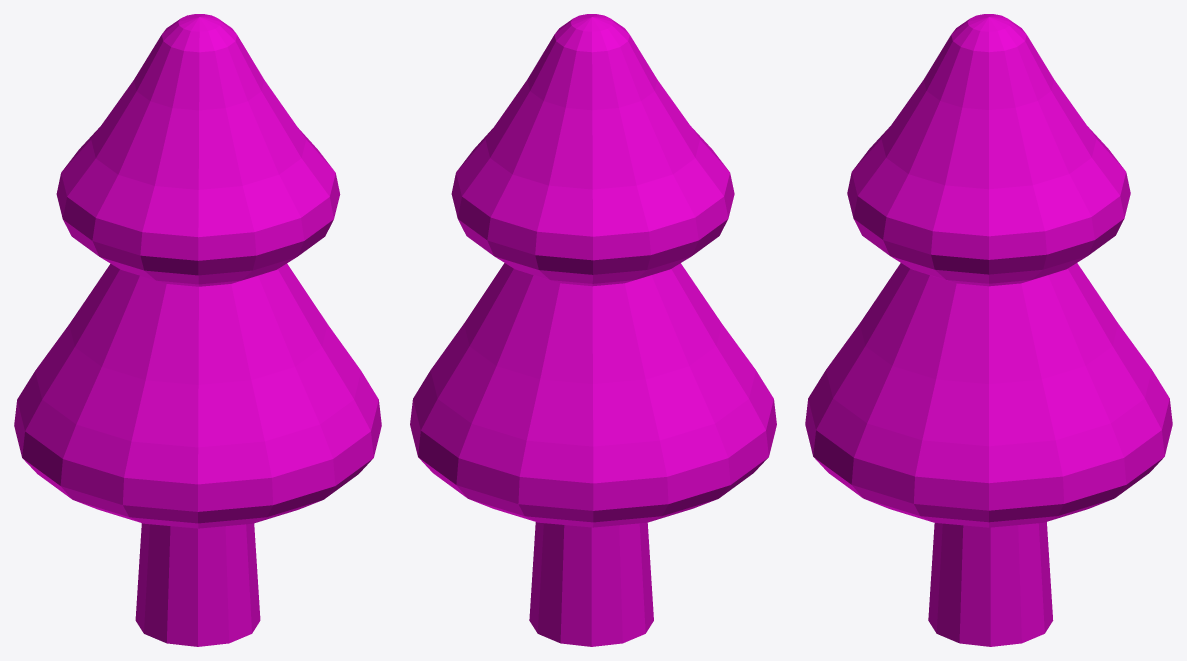
The model's file is Pine 2.fbx.
3 views of the same model, side by side, from view 1: azimuth 30°, elevation 25°; view 2: azimuth 150°, elevation 25°; view 3: azimuth 270°, elevation 25° (orthographic).
Parts seen in each view (by area): view 1: Bush, Trunk; view 2: Bush, Trunk; view 3: Bush, Trunk.
Part boxes in pixels (x1,y1,x2,y2): Bush: [14, 14, 381, 528]; Trunk: [135, 523, 260, 646]; Bush: [410, 14, 776, 527]; Trunk: [529, 522, 653, 646]; Bush: [805, 14, 1172, 527]; Trunk: [928, 522, 1053, 646].
Bounding box in the file's own units: 4.07 × 7.42 × 4.1.
